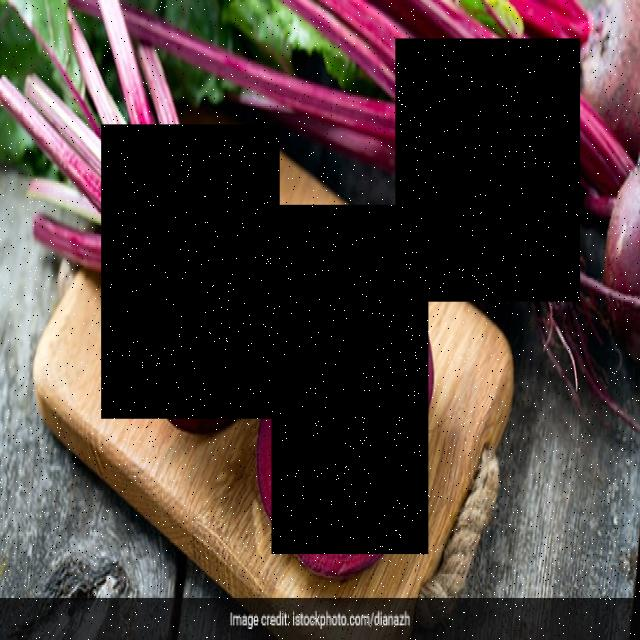Beetroot: (272, 206, 428, 556), (101, 125, 280, 419), (396, 40, 580, 304)
